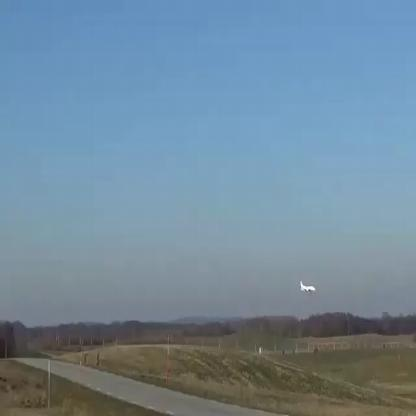aircraft: (300, 280, 315, 292)
